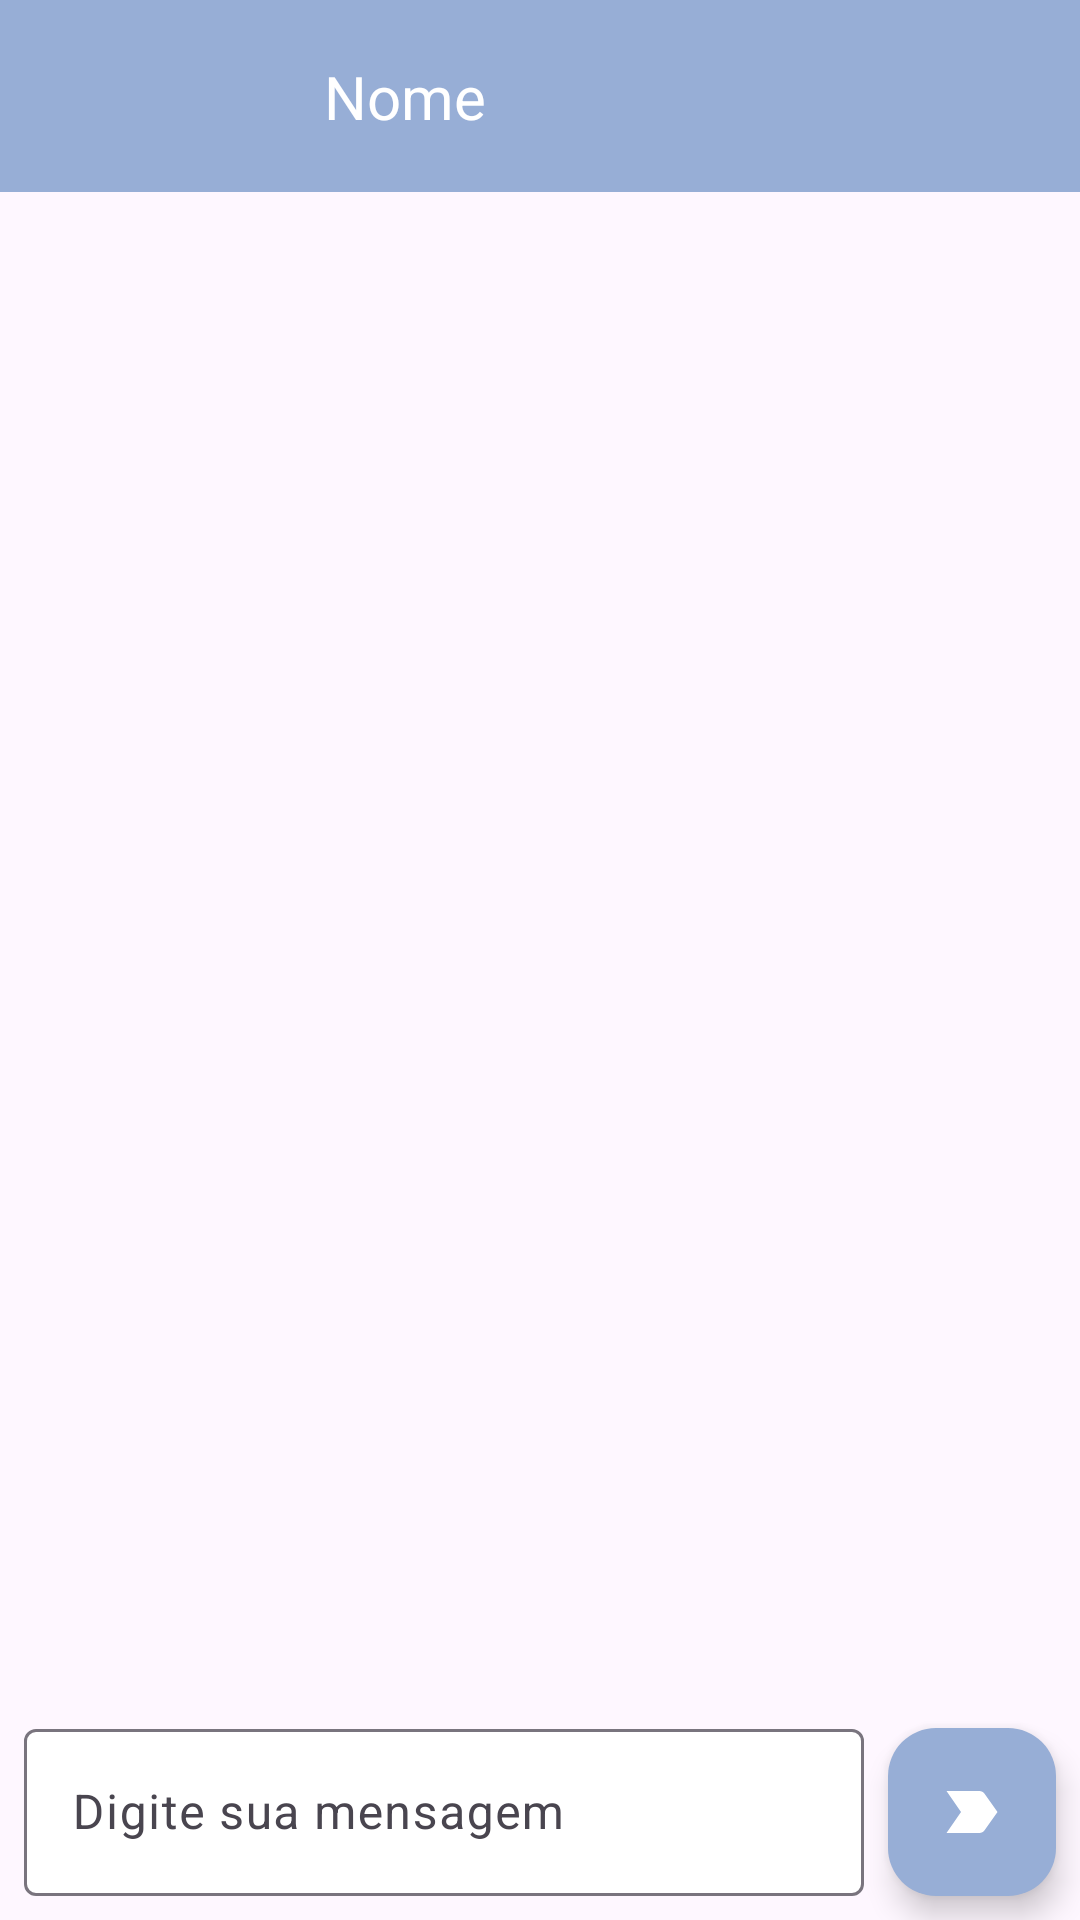

Icon bounding boxes for this 1080px×1920px phone screenshot, format (x1, y1, x2, y2):
send: (888, 1728, 1056, 1896)
